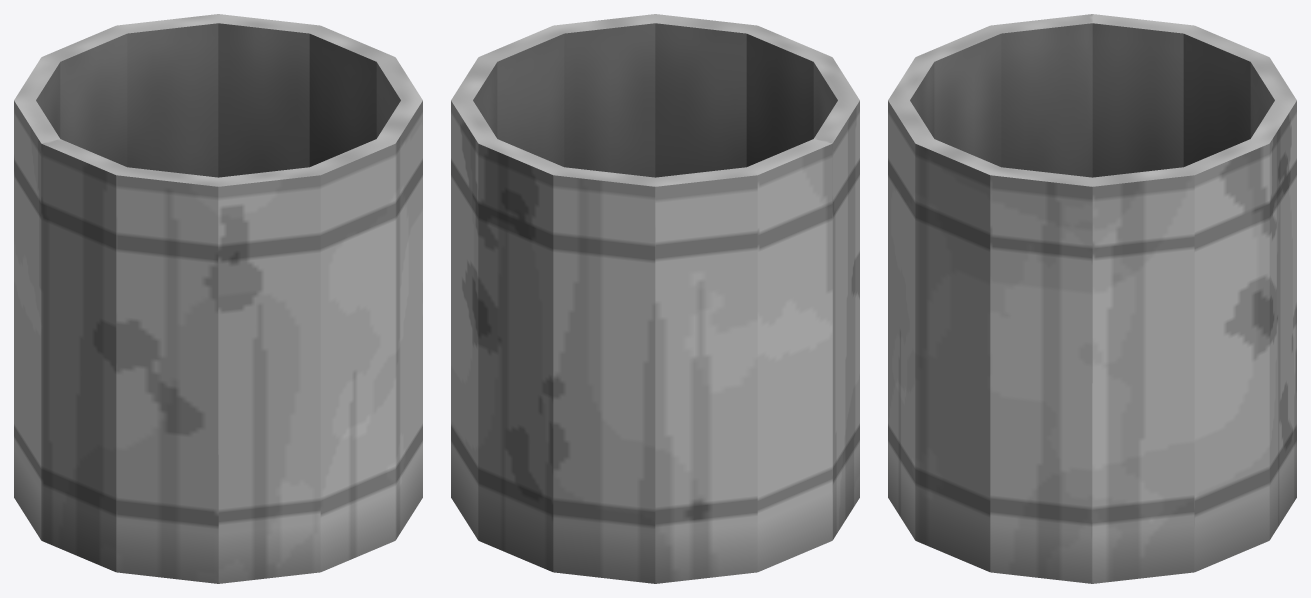
File: SM_BusStopUrn.fbx
3 renders of one model, left to right at view 1: azimuth 30°, elevation 25°; view 2: azimuth 150°, elevation 25°; view 3: azimuth 270°, elevation 25°, orthographic.
Visible parts, largest first — view 1: SM_BusStopUrn; view 2: SM_BusStopUrn; view 3: SM_BusStopUrn.
Boxes of the visible parts, left/top/right/bottom form: SM_BusStopUrn: left=14, top=14, right=422, bottom=583; SM_BusStopUrn: left=451, top=14, right=859, bottom=583; SM_BusStopUrn: left=888, top=14, right=1296, bottom=583.
Size of what is drawn, in the model's own units: 56 by 60 by 56.
1 material, 1 textured.
